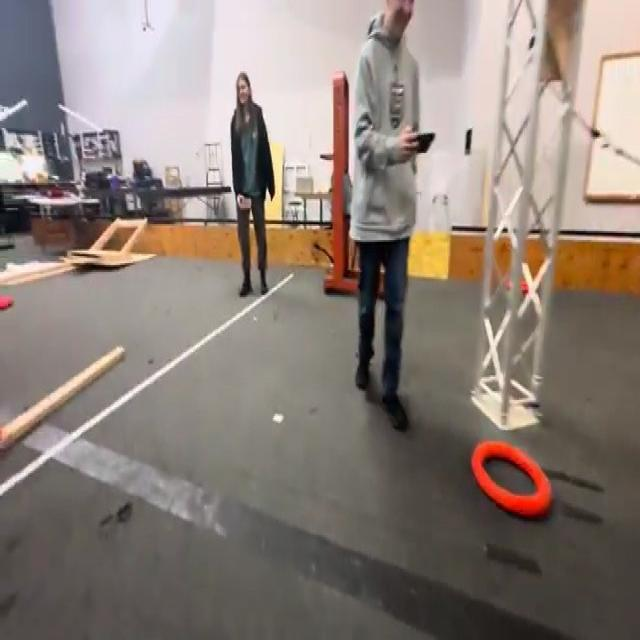note: (470, 441, 552, 520)
